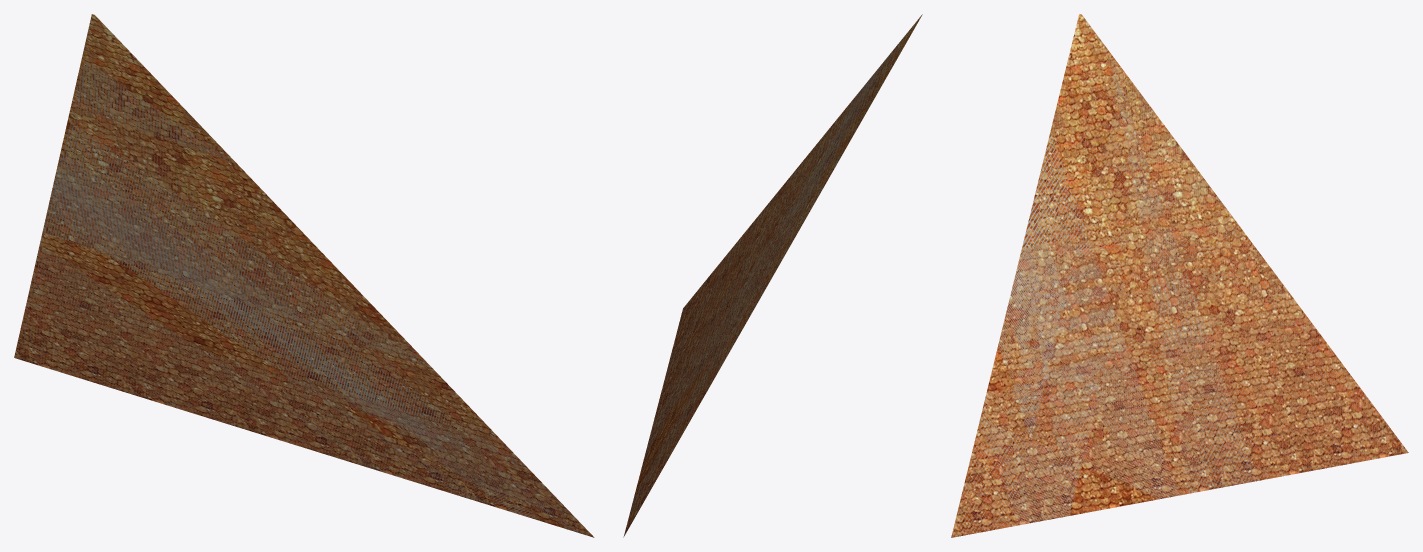
Rendered from 西庸城堡664.dae.
3 renders of one model, left to right at view 1: azimuth 30°, elevation 25°; view 2: azimuth 150°, elevation 25°; view 3: azimuth 270°, elevation 25°, orthographic. The views are drawn at different scales.
Parts seen in each view (by area): view 1: SketchUp; view 2: SketchUp; view 3: SketchUp.
Part boxes in pixels (<box>): SketchUp: <box>14,14,594,537</box>; SketchUp: <box>623,14,922,537</box>; SketchUp: <box>951,14,1408,537</box>.
Bounding box in the file's own units: 272 × 379 × 353.
